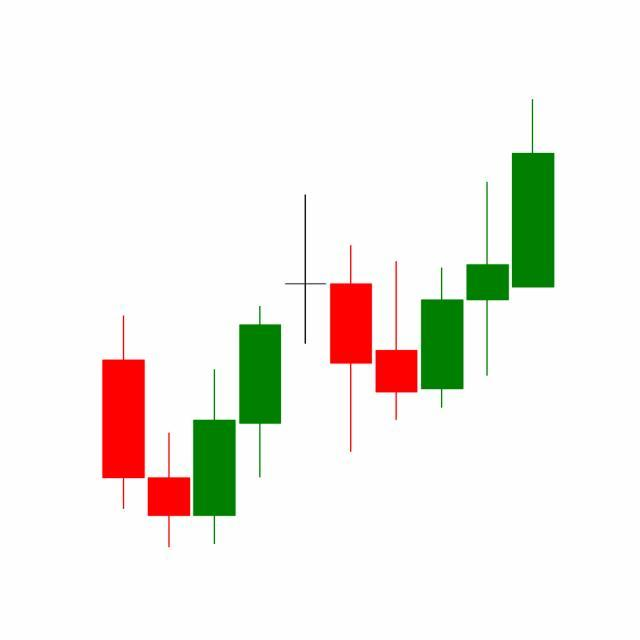Hikkake Pattern: (283, 180, 512, 456)
